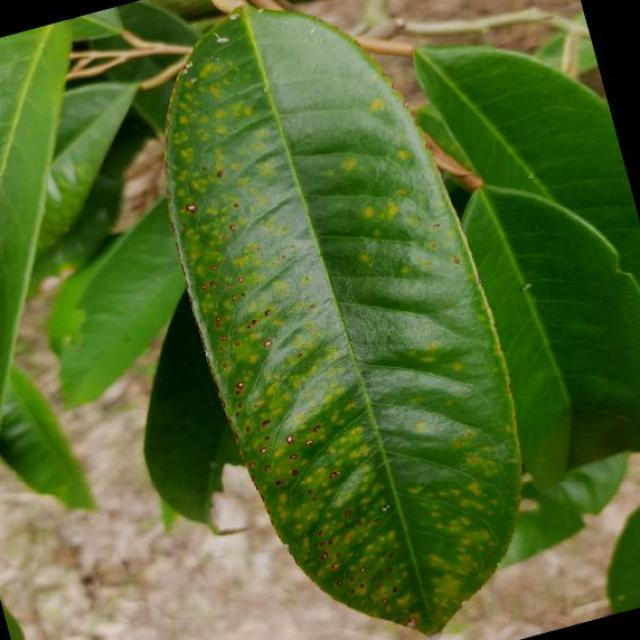Leaf Spot: (100, 0, 584, 640)
